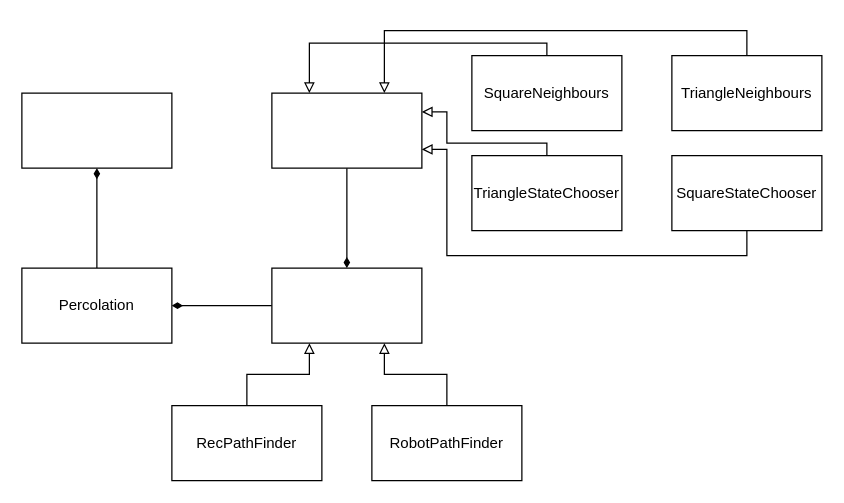
Some shapes in this 844 by 503 pixel diagram are drawn without their labels. The centre of each missing label's shape, as x and y in pixels:
"Helper" belongs at point (346, 130).
"PathFinder" belongs at point (346, 305).
"PercolationTools" belongs at point (96, 130).
